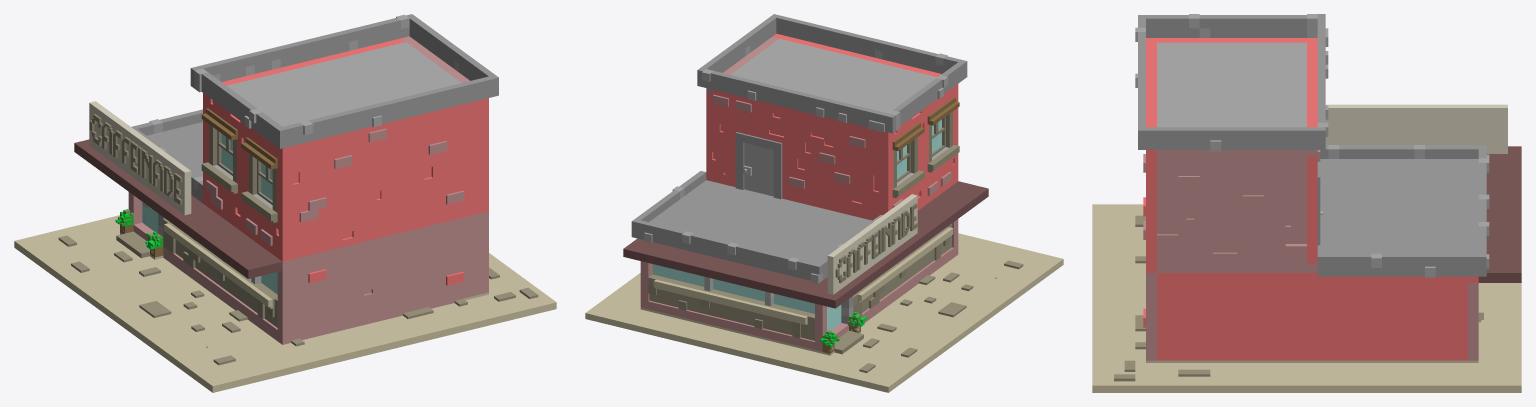
Rendered from Coffee Shop.obj.
The picture shows the model from 3 angles, left to right: view 1: azimuth 30°, elevation 25°; view 2: azimuth 150°, elevation 25°; view 3: azimuth 270°, elevation 25°; orthographic projection. The views are drawn at different scales.
Bounding box in the file's own units: 16 × 10 × 16.
Materials: 1 (1 with a texture image).
